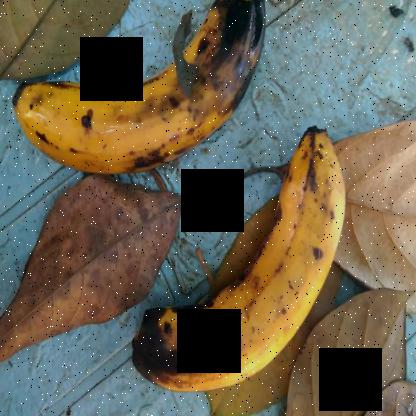overripe: (209, 109, 346, 393), (5, 33, 203, 173)
rotten: (166, 0, 275, 158), (117, 286, 235, 415)
